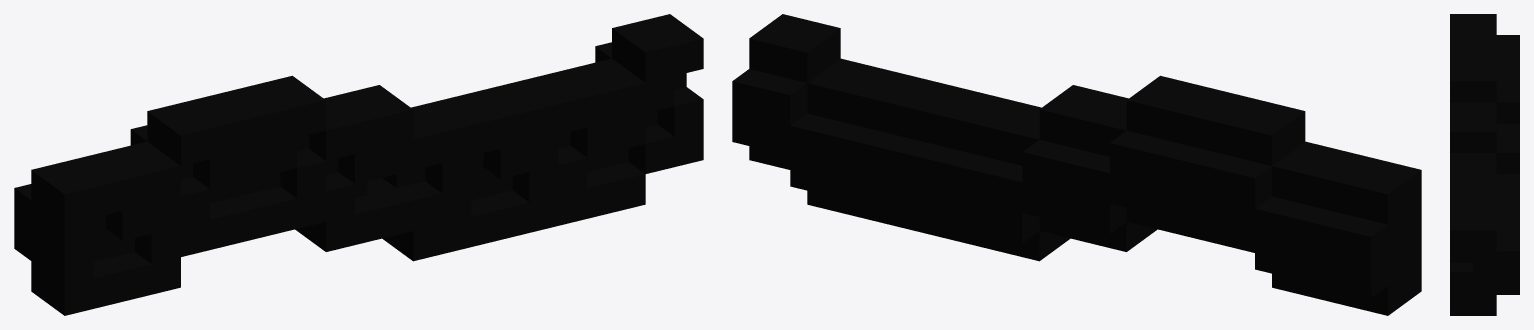
The model's file is Slider_Wavy_Full_Mid.002.fbx.
3 renders of one model, left to right at view 1: azimuth 30°, elevation 25°; view 2: azimuth 150°, elevation 25°; view 3: azimuth 270°, elevation 25°, orthographic. The views are drawn at different scales.
Parts seen in each view (by area): view 1: Slider_Wavy_Full_Mid.002; view 2: Slider_Wavy_Full_Mid.002; view 3: Slider_Wavy_Full_Mid.002.
Boxes of the visible parts, bbox=[...] form: Slider_Wavy_Full_Mid.002: bbox=[14, 14, 703, 315]; Slider_Wavy_Full_Mid.002: bbox=[732, 14, 1421, 315]; Slider_Wavy_Full_Mid.002: bbox=[1450, 14, 1519, 315].
Bounding box in the file's own units: 2.2 × 0.6 × 0.3.
